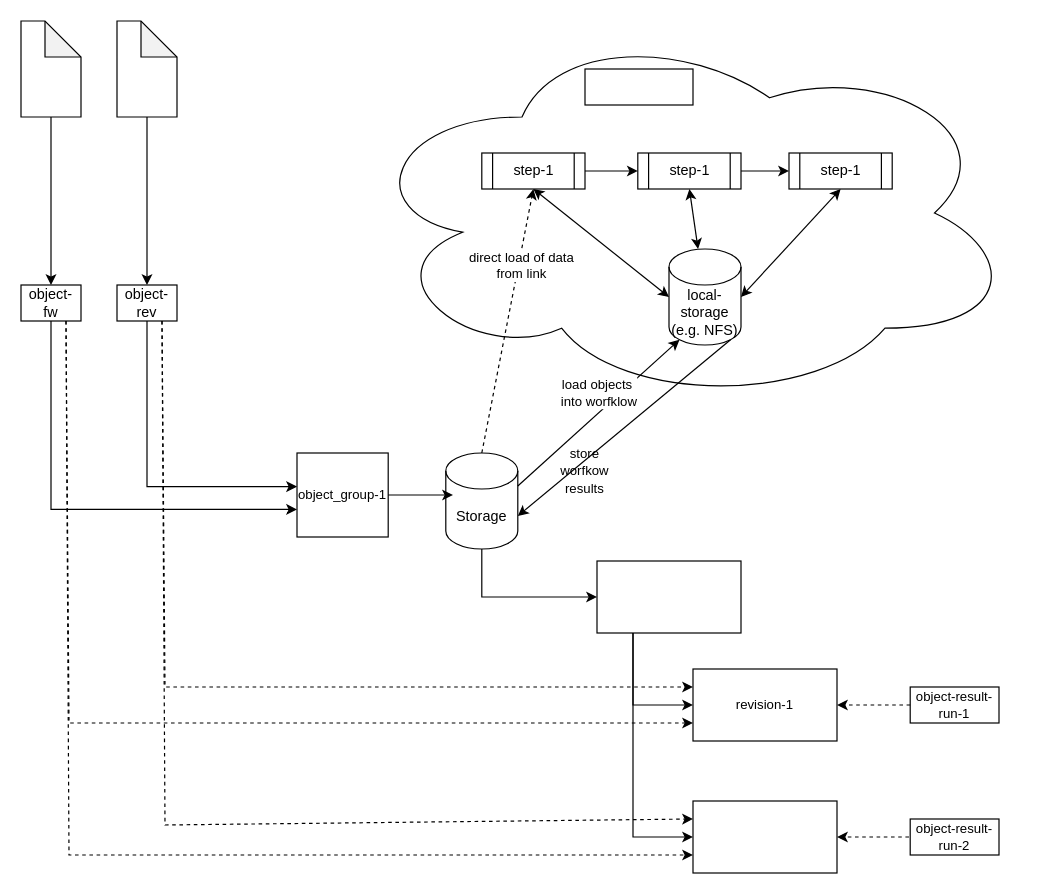
The diagram is 1038 pixels wide and 894 high, and some of its shapes have lost their labels. The centre of each missing label's shape, as x and y in pixels:
fw.fasta: pixel 50 68
object_group_results: pixel 668 596
rev.fasta: pixel 146 68
revision-2: pixel 764 836
Workflow: pixel 638 86
